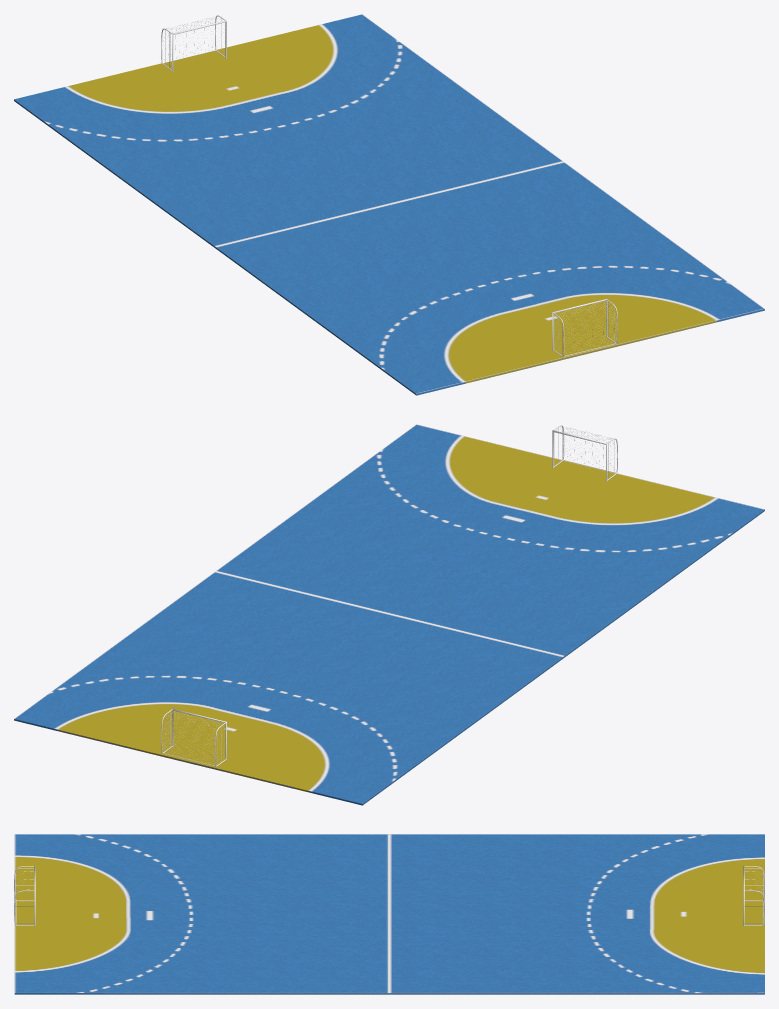
3 renders of one model, top to bottom at view 1: azimuth 30°, elevation 25°; view 2: azimuth 150°, elevation 25°; view 3: azimuth 270°, elevation 25°, orthographic. The views are drawn at different scales.
Visible parts, largest first — view 1: Handball, Goal.001, Goal; view 2: Handball, Goal, Goal.001; view 3: Handball, Goal, Goal.001.
Part boxes in pixels (box(x1,y1,x2,y2)): Handball: box(14, 14, 764, 395); Goal.001: box(161, 15, 226, 71); Goal: box(552, 299, 617, 356); Handball: box(14, 424, 764, 805); Goal: box(552, 425, 617, 481); Goal.001: box(161, 708, 226, 766); Handball: box(14, 834, 764, 994); Goal: box(14, 866, 35, 926); Goal.001: box(743, 866, 764, 926).
Size of the model in its own units: 20 by 2.17 by 40.04.
2 materials, 2 textured.
